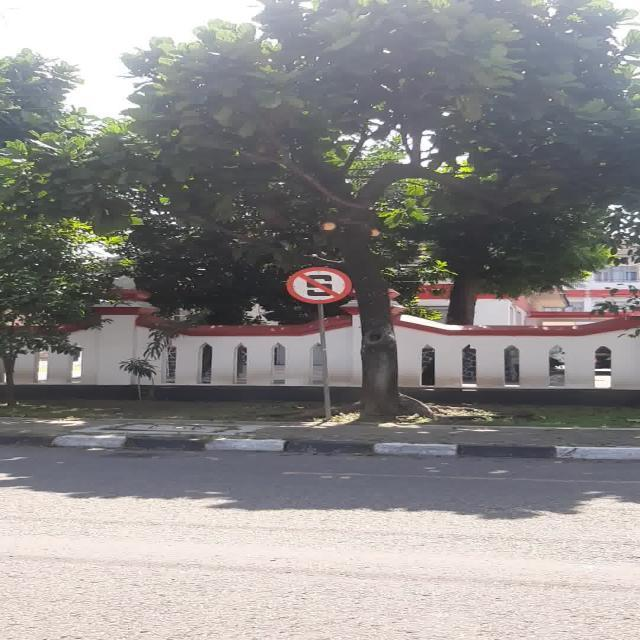Dilarang Berhenti: (286, 267, 352, 304)
